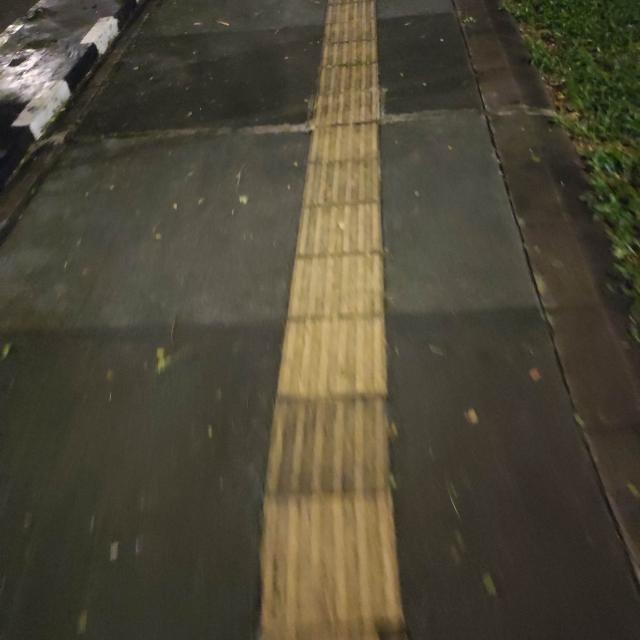lurus: (245, 35, 400, 640)
